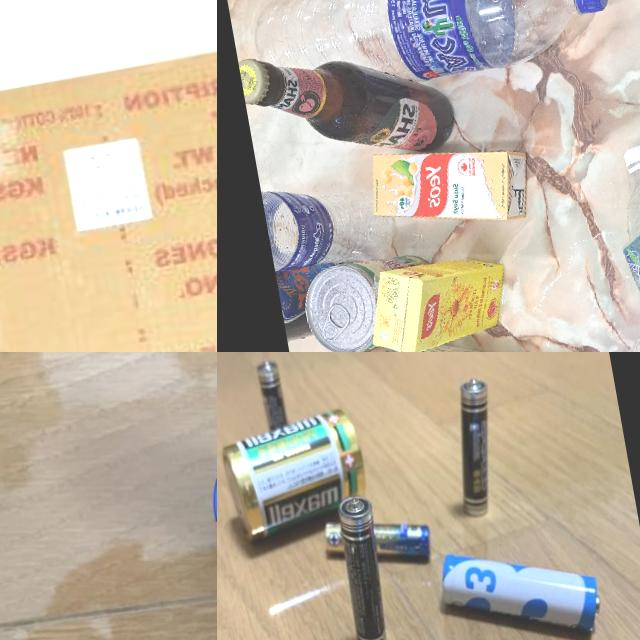aba de lata: (316, 300, 358, 348)
bateria: (217, 406, 379, 549), (431, 529, 606, 640), (436, 372, 511, 524), (325, 492, 397, 640), (320, 503, 438, 576), (245, 355, 296, 453)
caixinha: (362, 130, 536, 238), (362, 248, 516, 352)
garrafa de vidro: (239, 30, 451, 180), (274, 258, 338, 338)
garrafa plástica: (243, 0, 578, 103), (261, 175, 373, 272), (582, 165, 640, 352)
lata: (297, 246, 429, 352)
papelão: (0, 22, 217, 352)
tampa plástica: (568, 0, 615, 15), (622, 137, 640, 170)
